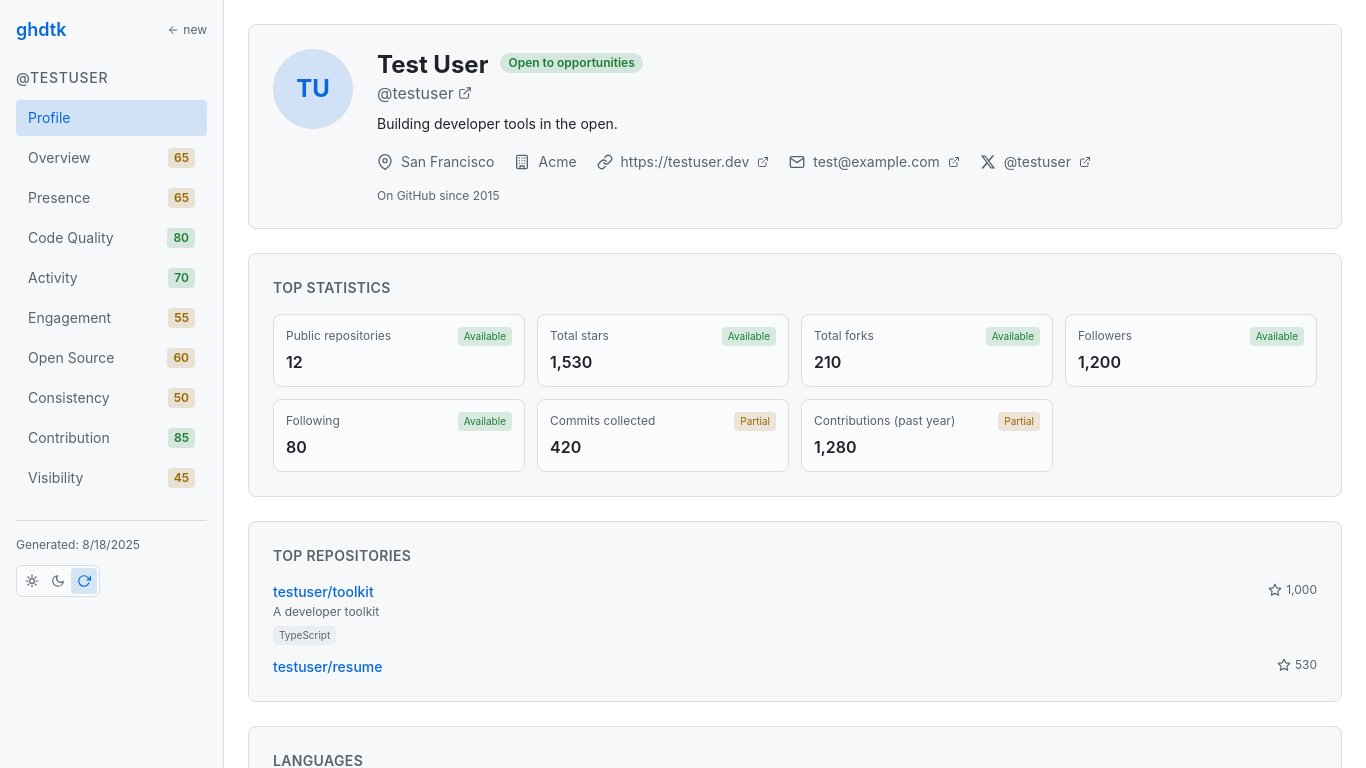
Test case: Dashboard › switches to dimension detail when tab clicked
This screenshot has width=1366, height=768.
Click the button "Activity 70" at x=112, y=278, box 16,260 -> 207,296
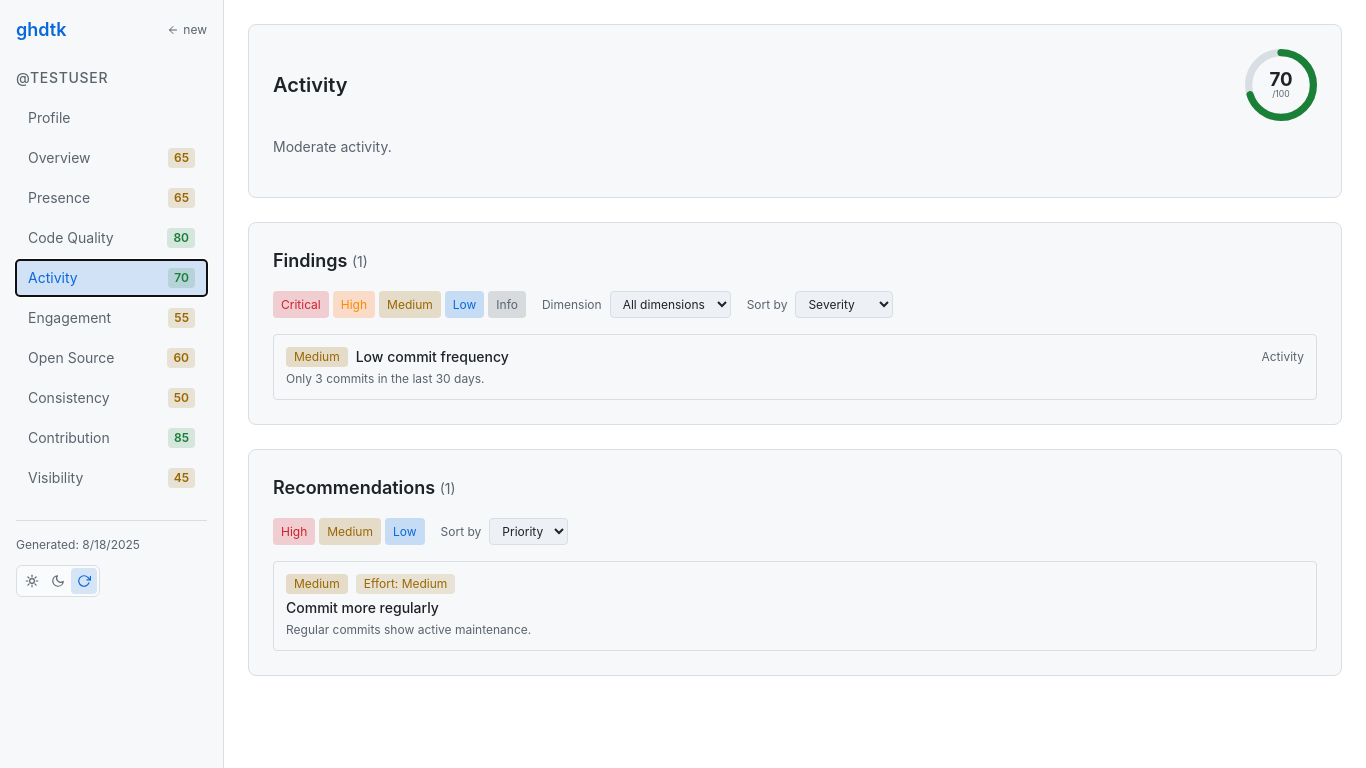
Result: the text "Moderate activity." is shown at 273,138 -> 392,155
